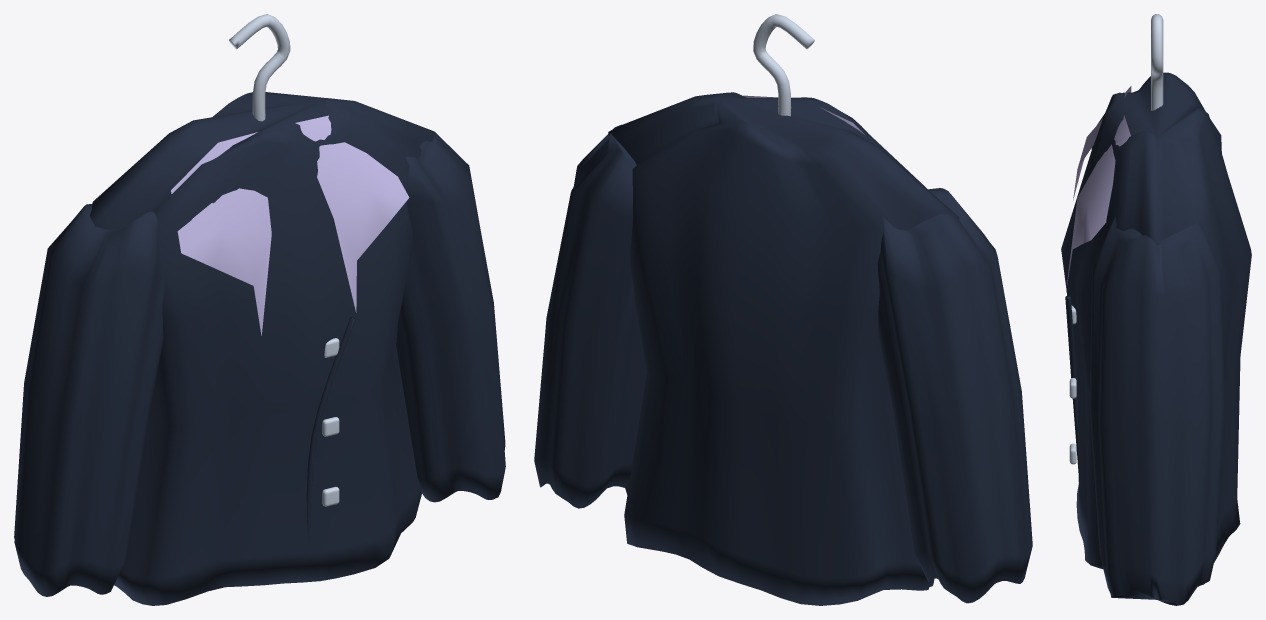
File: closet.glb
The picture shows the model from 3 angles, left to right: view 1: azimuth 30°, elevation 25°; view 2: azimuth 150°, elevation 25°; view 3: azimuth 270°, elevation 25°; orthographic projection. The views are drawn at different scales.
Visible parts, largest first — view 1: Wardrobe_graphite, Wardrobe_silk, Wardrobe_alloy; view 2: Wardrobe_graphite, Wardrobe_alloy; view 3: Wardrobe_graphite, Wardrobe_silk, Wardrobe_alloy.
Part boxes in pixels (x1=…): Wardrobe_graphite: x1=14, y1=92, x2=505, y2=605; Wardrobe_silk: x1=171, y1=115, x2=409, y2=335; Wardrobe_alloy: x1=229, y1=14, x2=339, y2=506; Wardrobe_graphite: x1=534, y1=92, x2=1032, y2=605; Wardrobe_alloy: x1=753, y1=14, x2=814, y2=116; Wardrobe_graphite: x1=1061, y1=72, x2=1251, y2=605; Wardrobe_silk: x1=1066, y1=86, x2=1131, y2=291; Wardrobe_alloy: x1=1069, y1=14, x2=1163, y2=464.
Size of the model in its own units: 1.11 by 1.2 by 0.4074.
